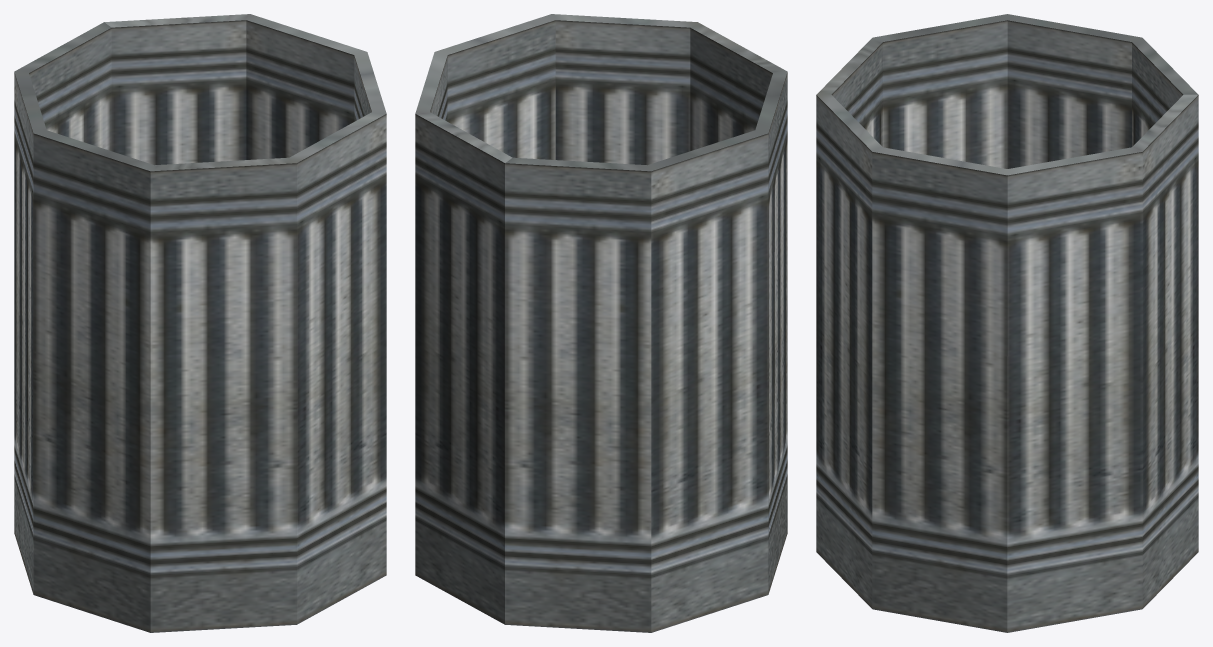
Rendered from trashcan.fbx.
The picture shows the model from 3 angles, left to right: view 1: azimuth 30°, elevation 25°; view 2: azimuth 150°, elevation 25°; view 3: azimuth 270°, elevation 25°; orthographic projection.
Parts seen in each view (by area): view 1: Cylinder; view 2: Cylinder; view 3: Cylinder.
Part boxes in pixels (x1,y1,x2,y2): Cylinder: [14, 14, 386, 632]; Cylinder: [415, 14, 787, 632]; Cylinder: [816, 14, 1198, 632].
Bounding box in the file's own units: 56.62 × 74.79 × 56.62.
1 material, 1 textured.
